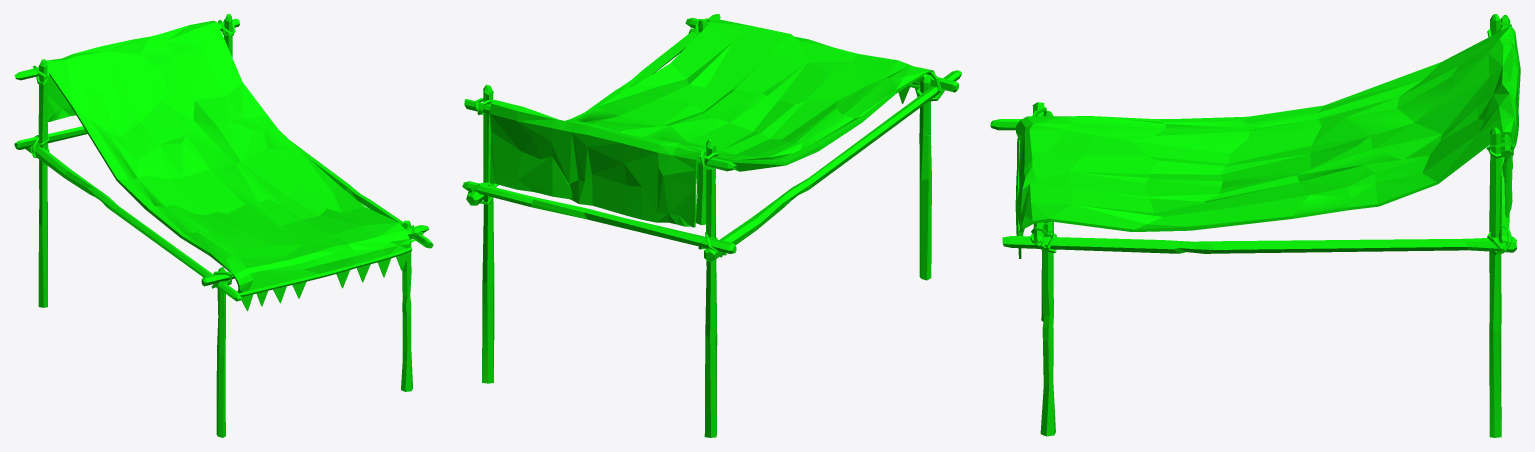
File: SM_Market_Stall_A_Long_Stripes.fbx
The picture shows the model from 3 angles, left to right: view 1: azimuth 30°, elevation 25°; view 2: azimuth 150°, elevation 25°; view 3: azimuth 270°, elevation 25°; orthographic projection. The views are drawn at different scales.
Parts seen in each view (by area): view 1: market-stall-a-long-stripes; view 2: market-stall-a-long-stripes; view 3: market-stall-a-long-stripes.
Boxes of the visible parts, x1,y1,x2,y2 form: market-stall-a-long-stripes: (14, 14, 433, 437); market-stall-a-long-stripes: (462, 14, 961, 437); market-stall-a-long-stripes: (990, 14, 1520, 437).
Size of the model in its own units: 3.7 by 3.82 by 5.94.
